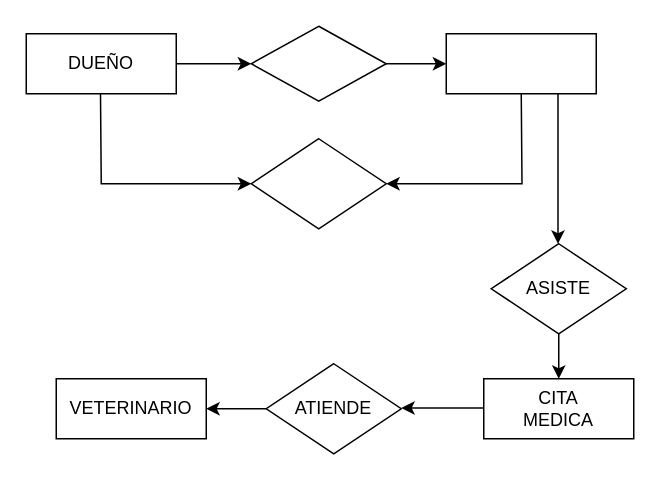
Some shapes in this 660 by 480 pixel diagram are drawn without their labels. The centre of each missing label's shape, as x and y in pixels:
MASCOTA: point (520, 63)
POSEE: point (318, 183)
TIENE: point (318, 63)
